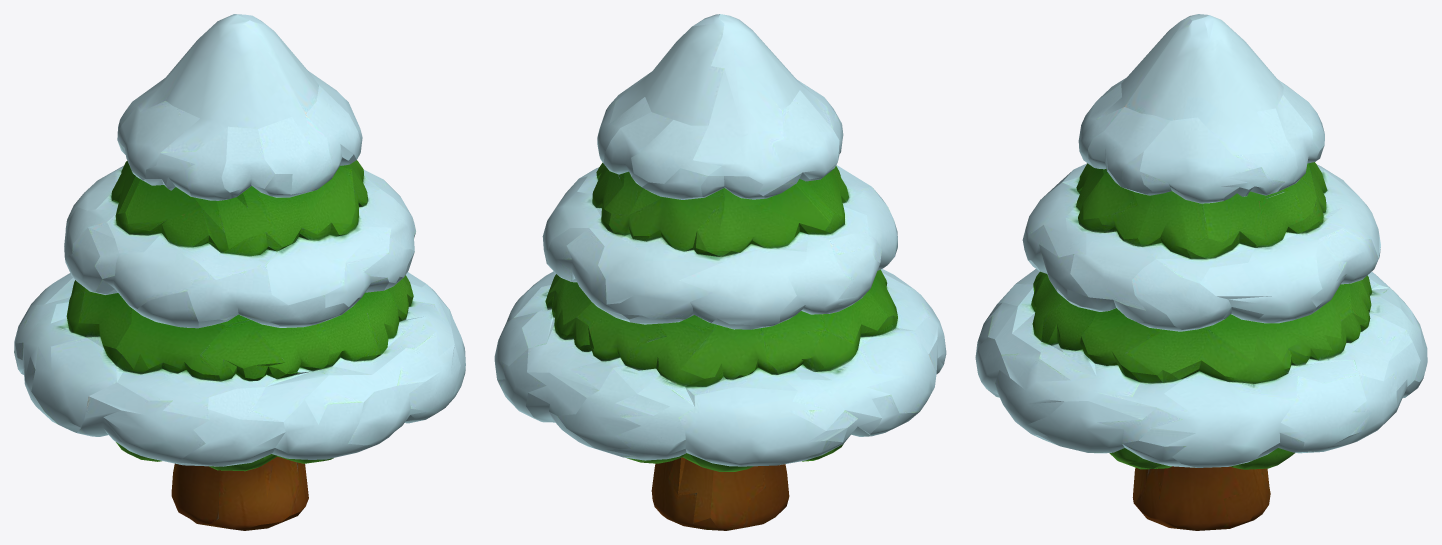
The model's file is sne-gran.glb.
The picture shows the model from 3 angles, left to right: view 1: azimuth 30°, elevation 25°; view 2: azimuth 150°, elevation 25°; view 3: azimuth 270°, elevation 25°; orthographic projection.
Bounding box in the file's own units: 1.59 × 1.9 × 1.6.
1 material, 1 textured.
